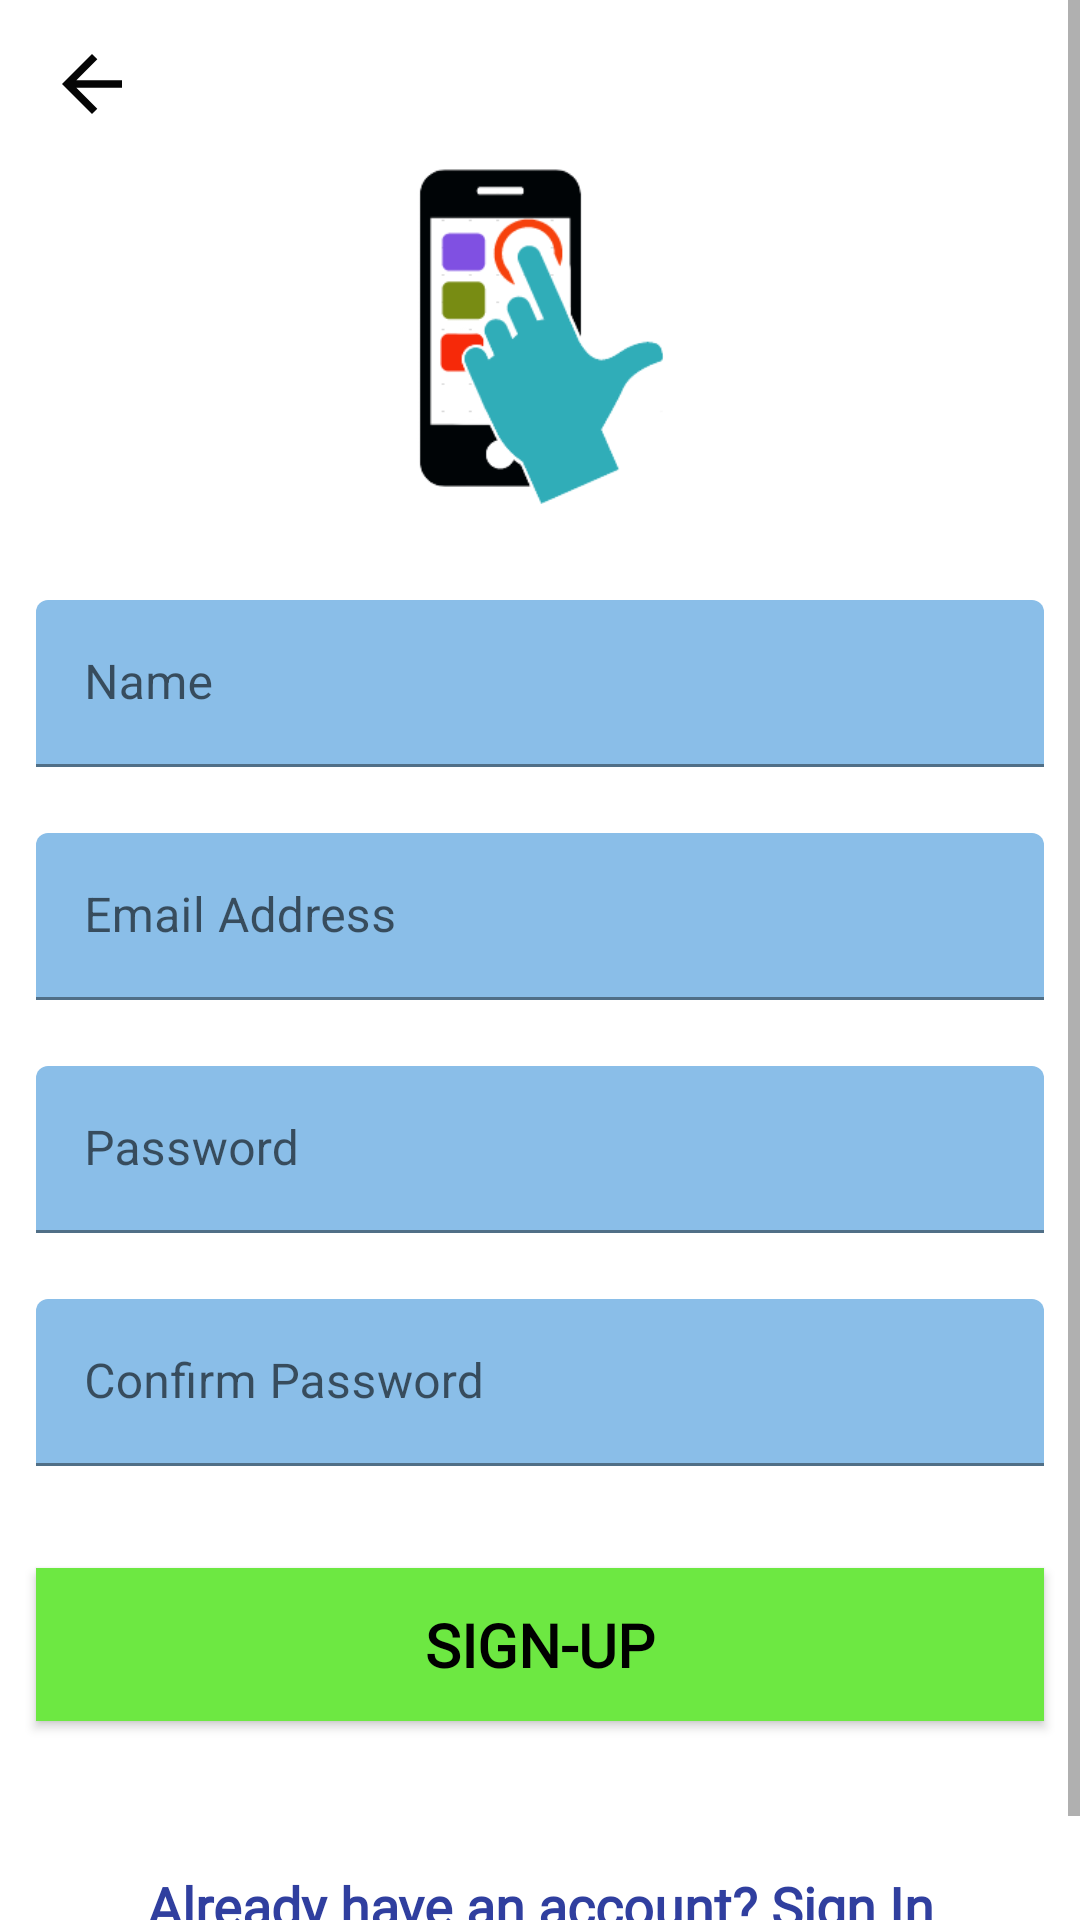

Icons on this 1080 x 1920 Android screen, each with its box as box(x1, y1, x2, y2):
back arrow: box(62, 54, 122, 114)
